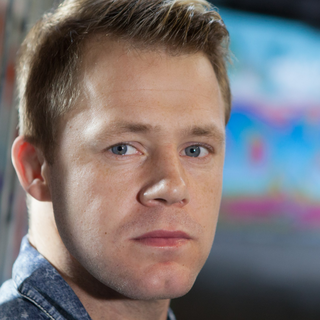eye: (99, 136, 148, 164), (175, 138, 216, 166)
